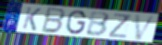B: (40, 6, 67, 35), (85, 11, 111, 37)
G: (65, 10, 88, 35)
K: (21, 6, 43, 32)
V: (134, 14, 158, 41)
Z: (108, 12, 133, 39)
